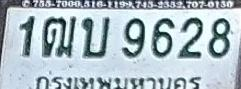1: (20, 15, 34, 56)
2: (178, 17, 203, 58)
6: (152, 17, 175, 57)
8: (208, 17, 230, 58)
9: (122, 17, 145, 58)
A18: (42, 16, 76, 58)
A26: (81, 16, 110, 58)
